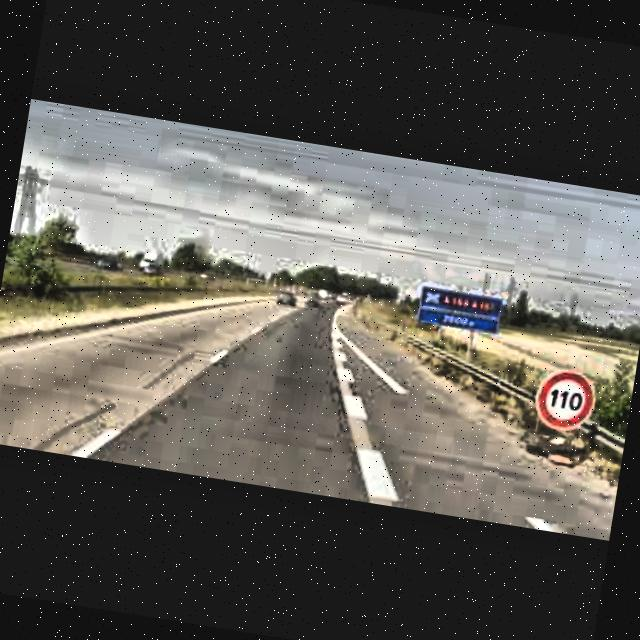speed_110: (534, 368, 596, 432)
